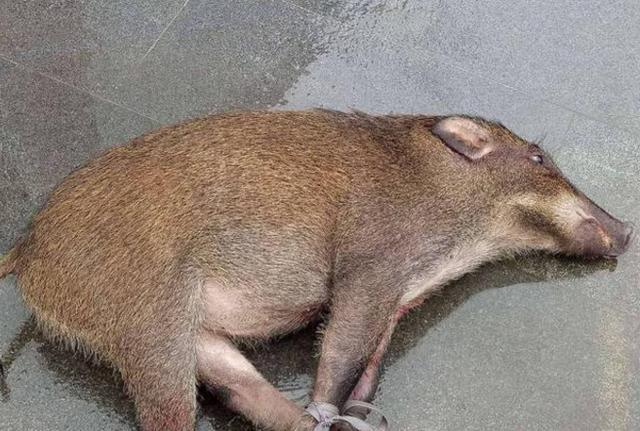boar: (6, 99, 633, 431)
